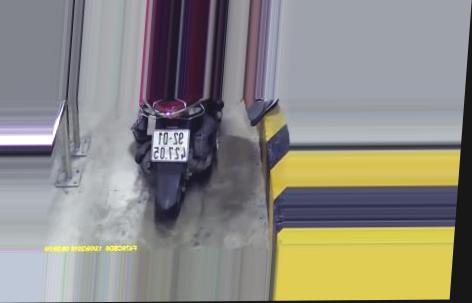License_Plate: (147, 125, 195, 163)
